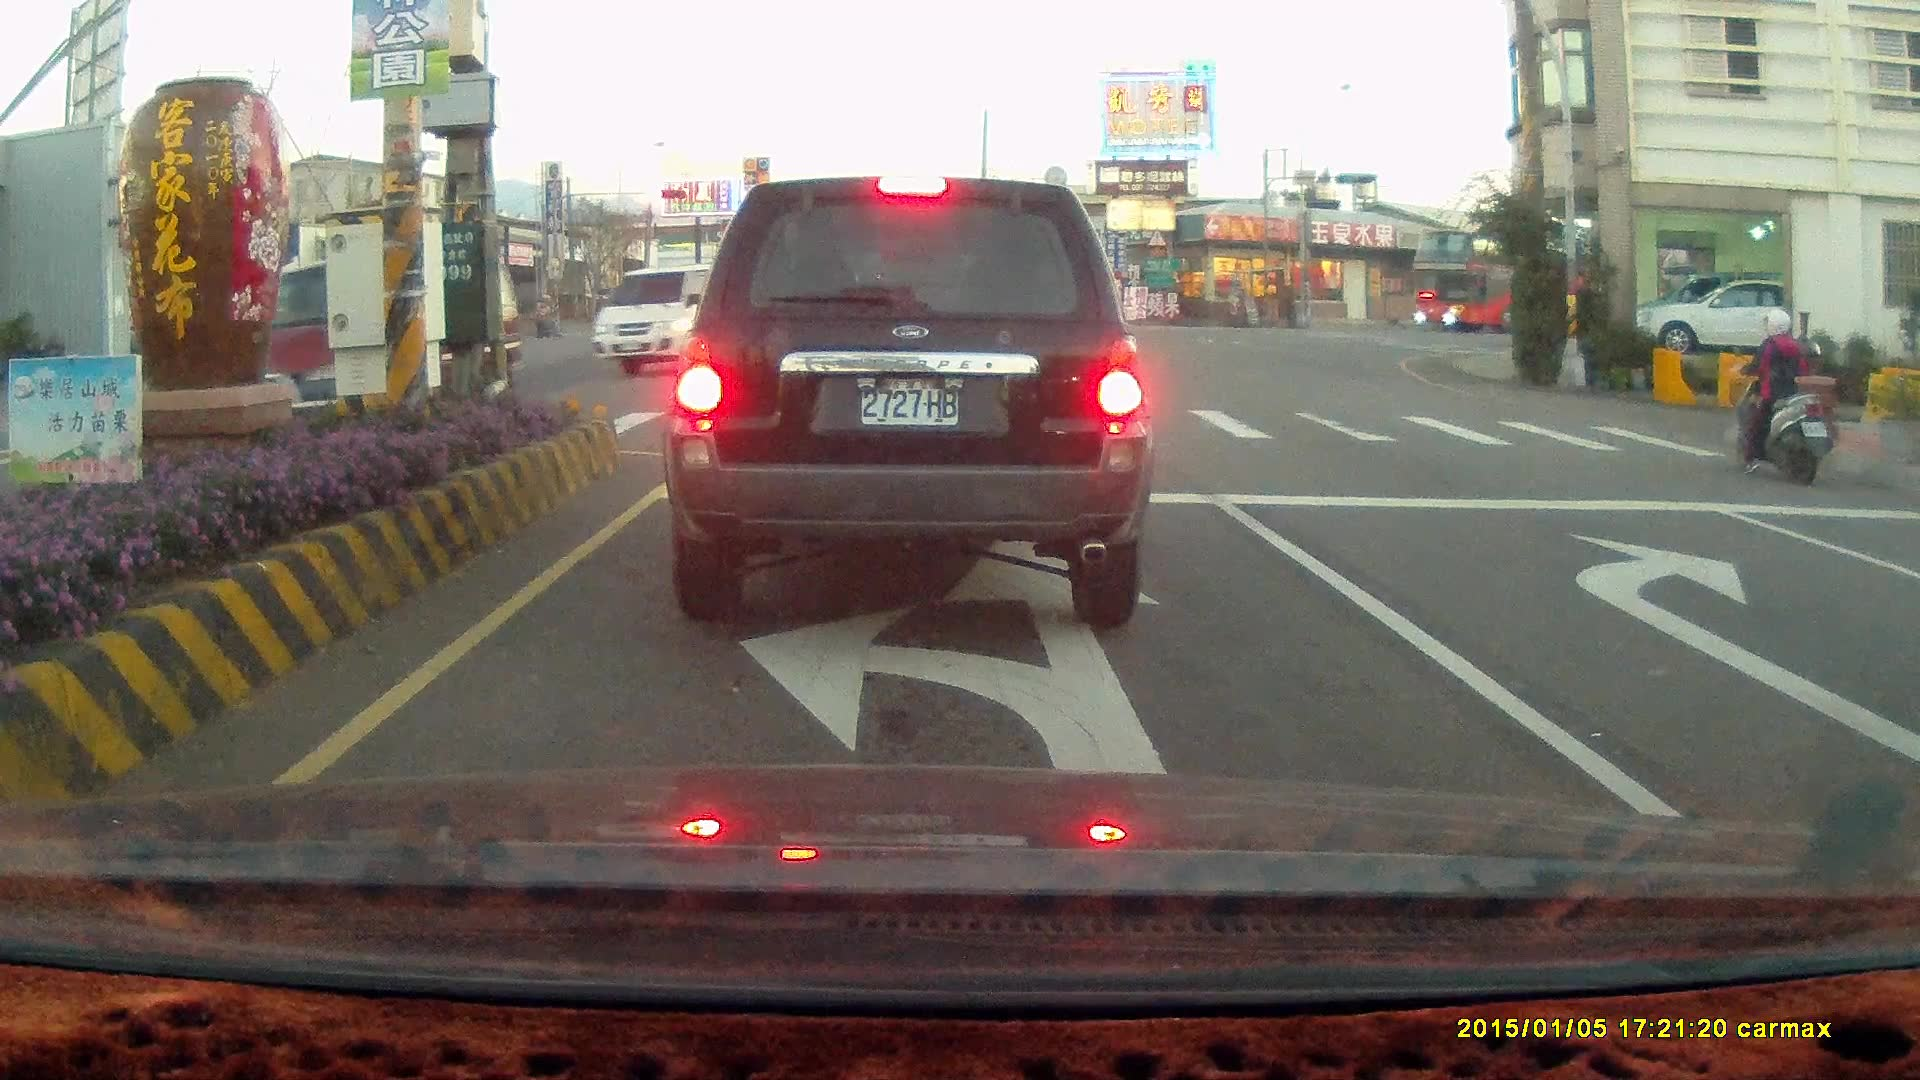rider: (1727, 308, 1830, 483), (530, 293, 558, 334)
vehicle: (662, 174, 1154, 628), (191, 251, 526, 467), (595, 264, 849, 377), (1412, 225, 1619, 334), (1621, 274, 1828, 354), (1642, 275, 1784, 356), (1896, 493, 1920, 836), (1883, 528, 1920, 690)
